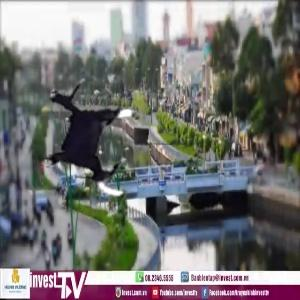drone: (25, 69, 164, 208)
